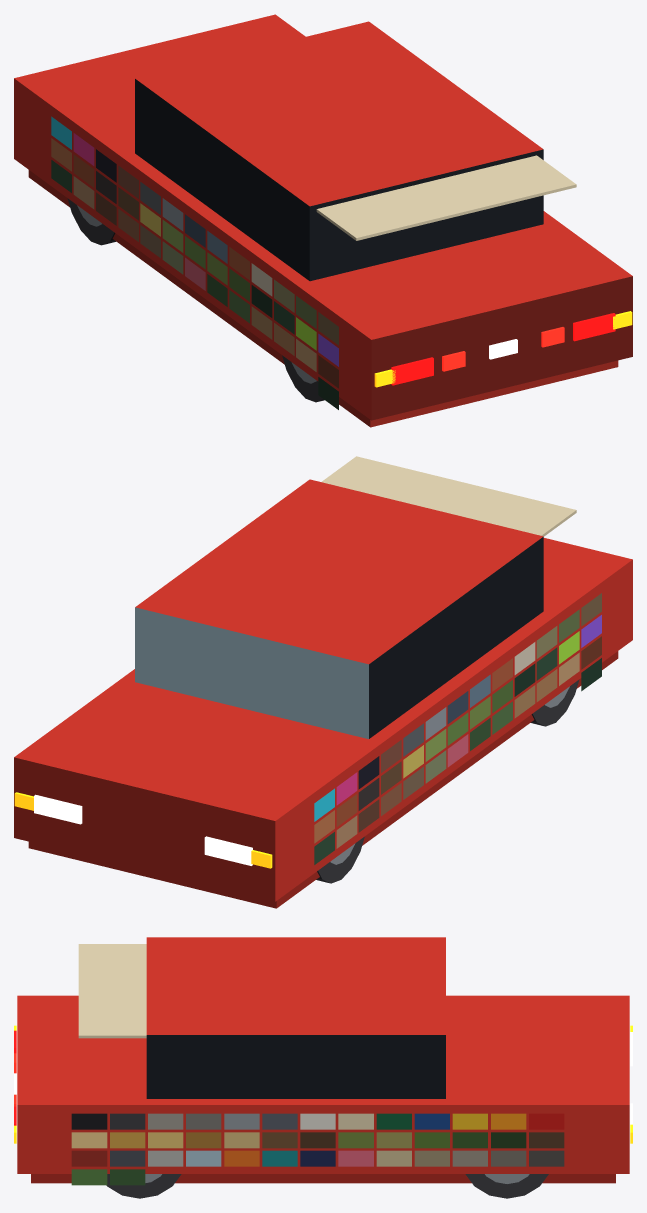
File: calib_box.glb
The picture shows the model from 3 angles, top to bottom: view 1: azimuth 30°, elevation 25°; view 2: azimuth 150°, elevation 25°; view 3: azimuth 270°, elevation 25°; orthographic projection. The views are drawn at different scales.
Parts seen in each view (by area): view 1: Body, Cabin, taillight_L, taillight_R, Tire_FL, Tire_RL; view 2: Body, Cabin, headlight_R, headlight_L, Tire_FL, Tire_RL; view 3: Body, Cabin, Tire_FR, Tire_RR.
Part boxes in pixels (<box>): Body: <box>14,14,632,427</box>; Cabin: <box>316,155,576,240</box>; taillight_L: <box>391,357,433,385</box>; taillight_R: <box>573,313,615,341</box>; Tire_FL: <box>67,198,115,245</box>; Tire_RL: <box>282,355,324,402</box>; Body: <box>14,479,632,908</box>; Cabin: <box>321,456,576,536</box>; headlight_R: <box>34,794,82,824</box>; headlight_L: <box>204,836,252,865</box>; Tire_FL: <box>316,836,364,883</box>; Tire_RL: <box>530,679,579,726</box>; Body: <box>17,937,629,1185</box>; Cabin: <box>78,944,146,1038</box>; Tire_FR: <box>465,1174,548,1198</box>; Tire_RR: <box>106,1174,181,1198</box>.
Size of the model in its own units: 1.91 by 1.3 by 4.55.
